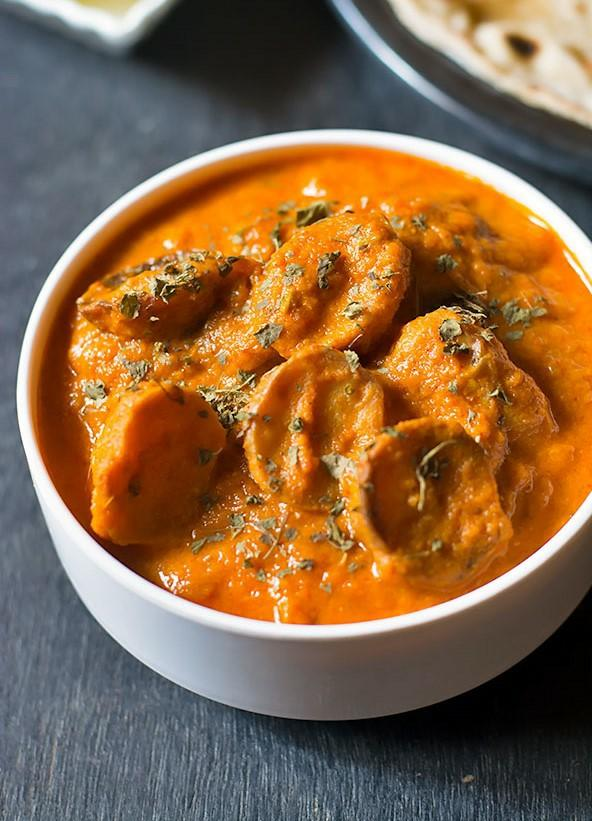DumAloo: (29, 142, 592, 624)
